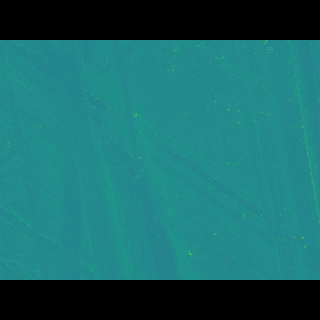Loch: (3, 69, 269, 158)
